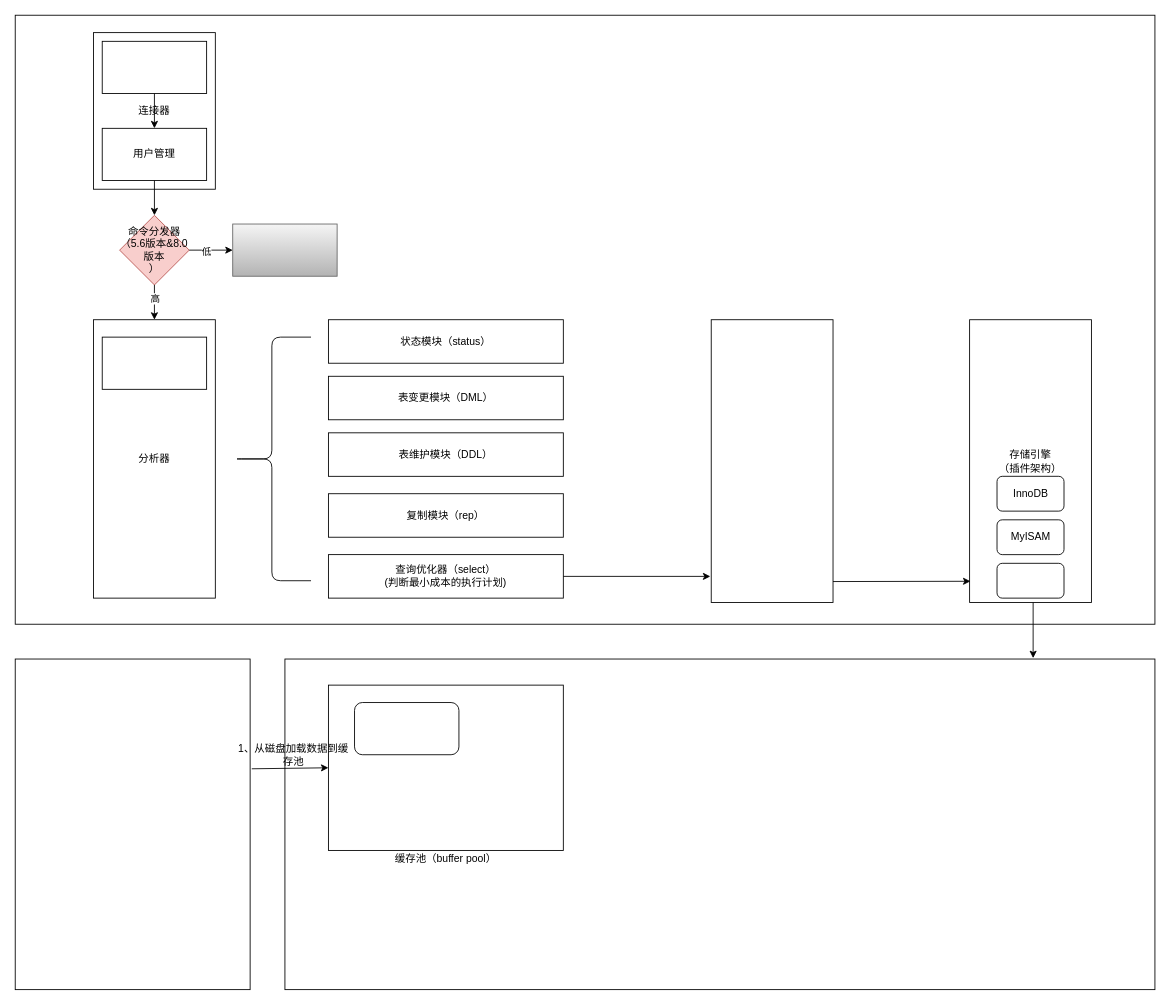
The diagram is 1170 pixels wide and 1005 high, and some of its shapes have lost their labels. Here are the shapes that lost their labels. From the top down, the centre of each, then its label:
pixel 154 67: 连接管理
pixel 284 249: 查询缓存
pixel 154 362: 命令解析器·语法解析
pixel 771 460: 执行器
pixel 1030 580: Memory
pixel 132 824: 磁盘文件
